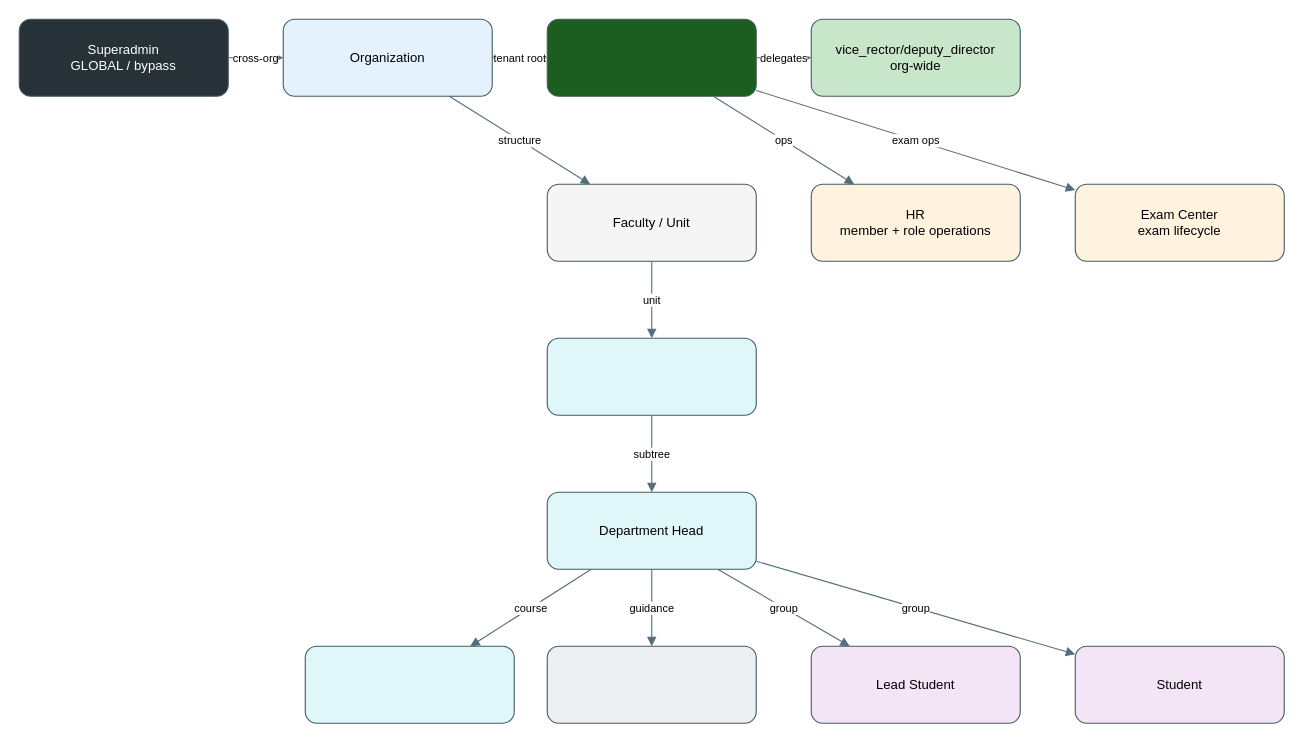
Some shapes in this 1304 by 743 pixel diagram are drawn without their labels. The shapes that lost their labels are listed below. From the top down, each one's centre as x and y in pixels, then its label:
the point at 651,57: rector/director/manager/owner level 100 / *
the point at 651,376: Dean
the point at 409,684: Teacher / Instructor
the point at 651,684: Tutor / Program Coordinator
